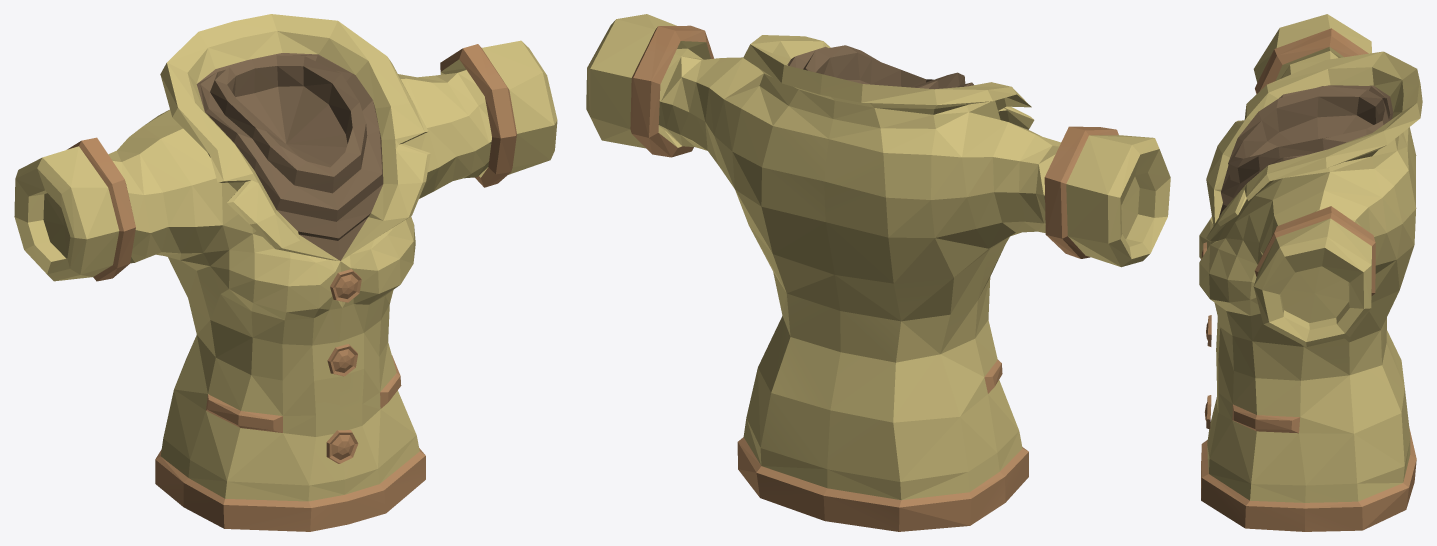
Rendered from armorFishermanDisplay.fbx.
3 renders of one model, left to right at view 1: azimuth 30°, elevation 25°; view 2: azimuth 150°, elevation 25°; view 3: azimuth 270°, elevation 25°, orthographic. The views are drawn at different scales.
Visible parts, largest first — view 1: armorFishermanDisplay; view 2: armorFishermanDisplay; view 3: armorFishermanDisplay.
Part boxes in pixels (box(x1,y1,x2,y2)): armorFishermanDisplay: box(14, 14, 557, 531); armorFishermanDisplay: box(586, 14, 1170, 531); armorFishermanDisplay: box(1199, 14, 1422, 531).
Size of the model in its own units: 1.69 by 1.37 by 0.6908.
